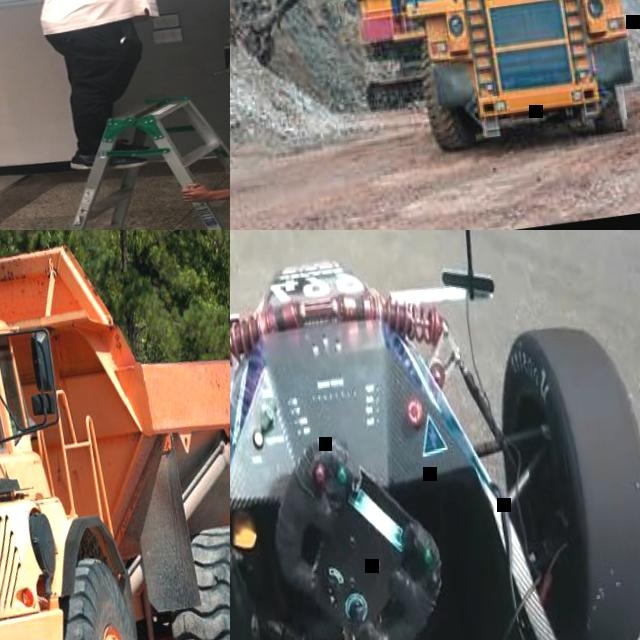Person: (27, 0, 230, 174)
Safety Vest: (26, 0, 172, 35)
machinery: (0, 230, 230, 640), (389, 0, 640, 153), (230, 0, 440, 130)
vehicle: (230, 230, 640, 640)
